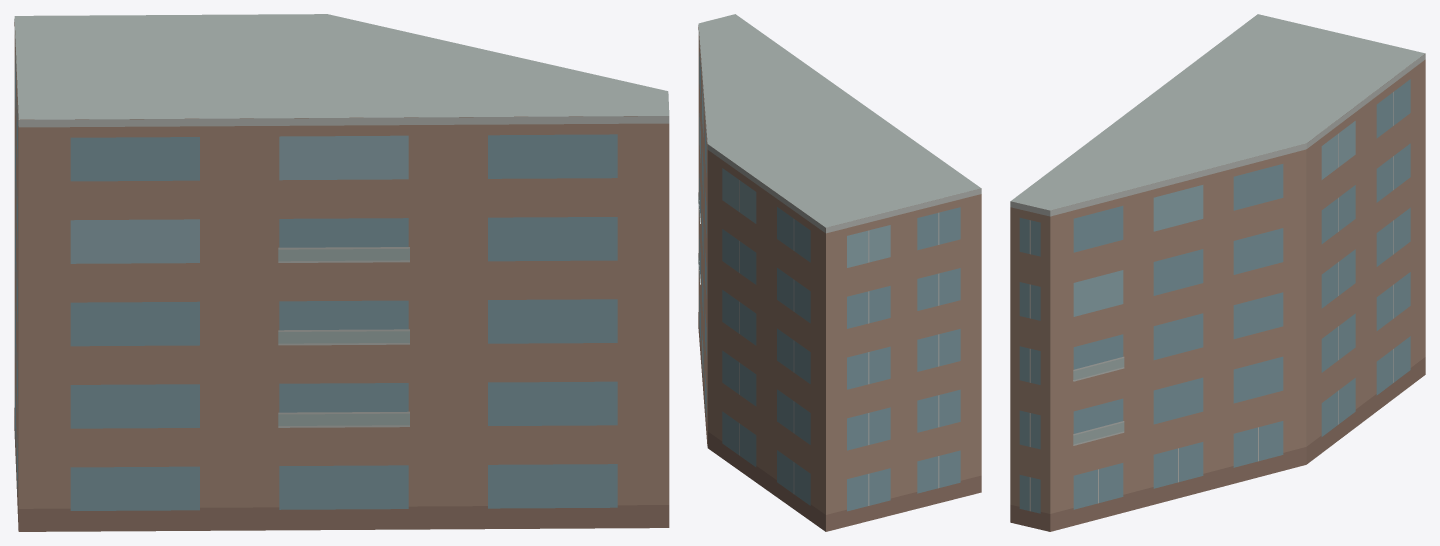
File: survey-upis-32684289.glb
3 renders of one model, left to right at view 1: azimuth 30°, elevation 25°; view 2: azimuth 150°, elevation 25°; view 3: azimuth 270°, elevation 25°, orthographic. The views are drawn at different scales.
Visible parts, largest first — view 1: survey-upis-32684289.tmp; view 2: survey-upis-32684289.tmp; view 3: survey-upis-32684289.tmp.
Boxes of the visible parts, <box> form: survey-upis-32684289.tmp: <box>14,14,669,531</box>; survey-upis-32684289.tmp: <box>698,14,981,531</box>; survey-upis-32684289.tmp: <box>1010,14,1425,531</box>.
Bounding box in the file's own units: 17.2 × 13.1 × 15.34.
